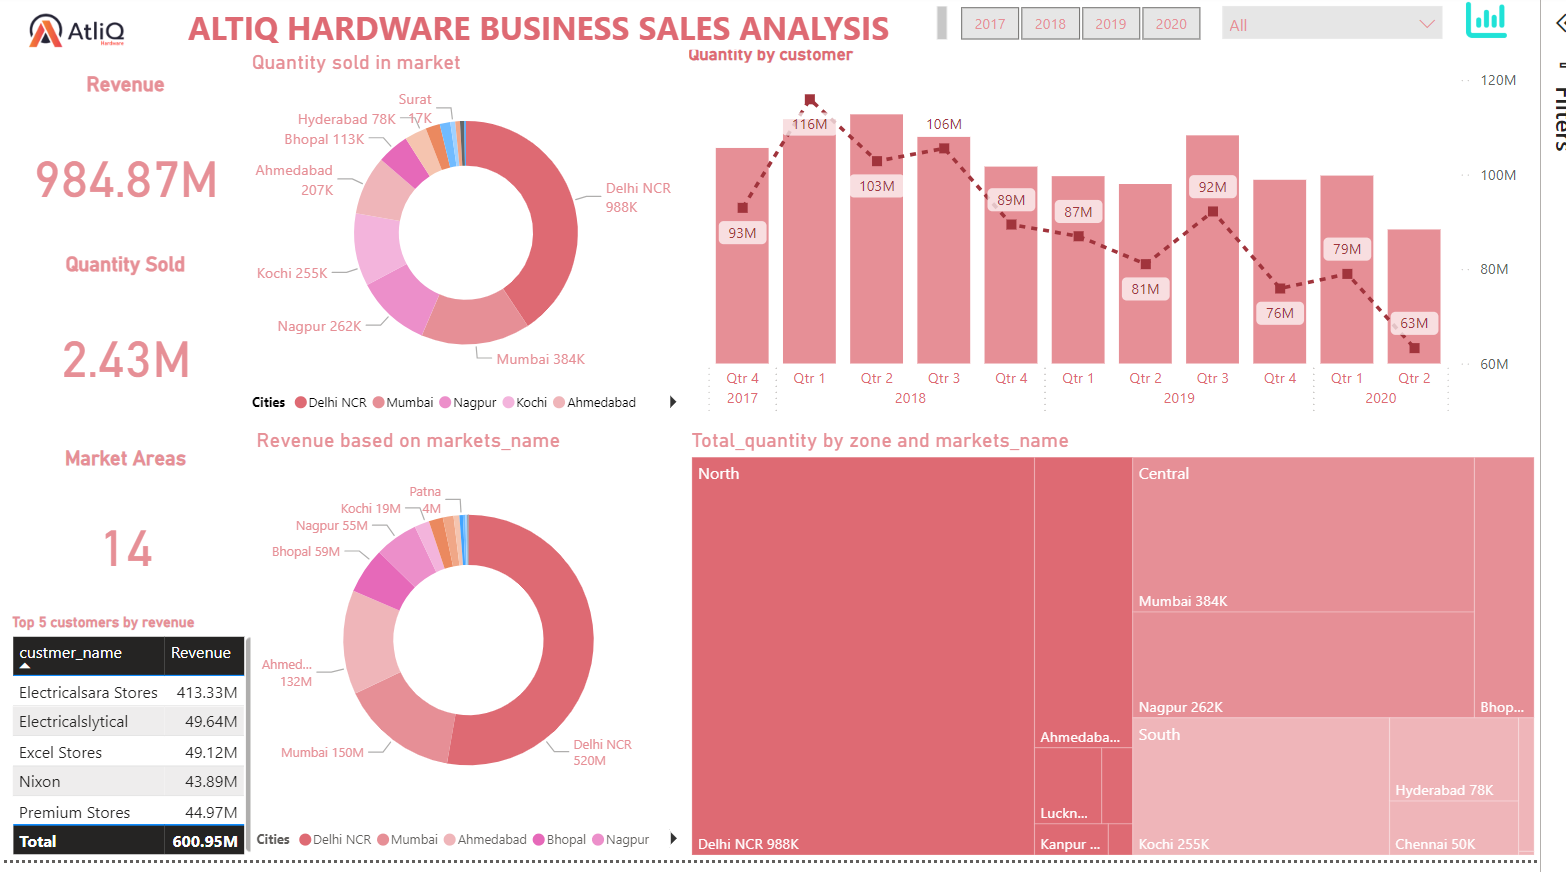

Layout of this report page (visuals, bound fields, positions):
{"tool":"powerbi","page":{"name":"Page 1","canvas":[1280,720],"ordinal":0},"visuals":[{"type":"card","title":"Market Areas","fields":{"Values":["BaseMeasures.Unique areas"]},"box":[0,375,208.8,141.2],"z":0},{"type":"tableEx","title":"Top 5 customers by revenue","fields":{"Values":["sales customers.custmer_name","BaseMeasures.Revenue"]},"box":[5,515,212.5,205],"z":1000},{"type":"lineClusteredColumnComboChart","title":"Quantity by customer","fields":{"Y":["BaseMeasures.Total_quantity"],"Category":["sales date.cy_date.Variation.Date Hierarchy.Year","sales date.cy_date.Variation.Date Hierarchy.Quarter"],"Y2":["BaseMeasures.Revenue"]},"box":[566.7,41.7,698.8,316.7],"z":2000},{"type":"slicer","fields":{"Values":["sales date.year"]},"box":[772.5,3.8,248.8,41.2],"z":3000},{"type":"slicer","fields":{"Values":["sales date.cy_date"]},"box":[1006.2,0,202.5,43.8],"z":4000},{"type":"donutChart","title":"Revenue based on markets_name","fields":{"Y":["BaseMeasures.Revenue"],"Category":["sales markets.markets_name"]},"box":[208.3,360,361.7,360],"z":5000},{"type":"card","title":"Quantity Sold","fields":{"Values":["BaseMeasures.Total_quantity"]},"box":[0,215,208.8,148.8],"z":6000},{"type":"treemap","fields":{"Group":["sales markets.zone"],"Values":["BaseMeasures.Total_quantity"],"Details":["sales markets.markets_name"]},"box":[570,360,710,360],"z":7000},{"type":"textbox","box":[111.2,5,681.2,41.2],"z":8000},{"type":"image","box":[1193.8,1.2,85,40],"z":9000},{"type":"card","title":"Revenue","fields":{"Values":["BaseMeasures.Revenue"]},"box":[0,65,208.8,148.8],"z":10000},{"type":"image","box":[1.2,0,131.2,65],"z":11000},{"type":"donutChart","title":"Quantity sold in market","fields":{"Y":["BaseMeasures.Total_quantity"],"Category":["sales markets.markets_name"]},"box":[205,46.2,365,311.2],"z":12000}]}

Visuals, with their boxes in screenshot pixels (x1, y1, x2, y2), scaled from the page's 1280x720 canvas onto the 1566x872 screenshot:
"Market Areas" card: 0, 454, 255, 625
"Top 5 customers by revenue" tableEx: 6, 624, 266, 871
"Quantity by customer" lineClusteredColumnComboChart: 693, 51, 1548, 434
slicer - sales date.year: 945, 5, 1249, 54
slicer - sales date.cy_date: 1231, 0, 1479, 53
"Revenue based on markets_name" donutChart: 255, 436, 697, 871
"Quantity Sold" card: 0, 260, 255, 441
treemap - sales markets.zone x BaseMeasures.Total_quantity: 697, 436, 1565, 871
textbox: 136, 6, 969, 56
image: 1461, 1, 1565, 50
"Revenue" card: 0, 79, 255, 259
image: 1, 0, 162, 79
"Quantity sold in market" donutChart: 251, 56, 697, 433
